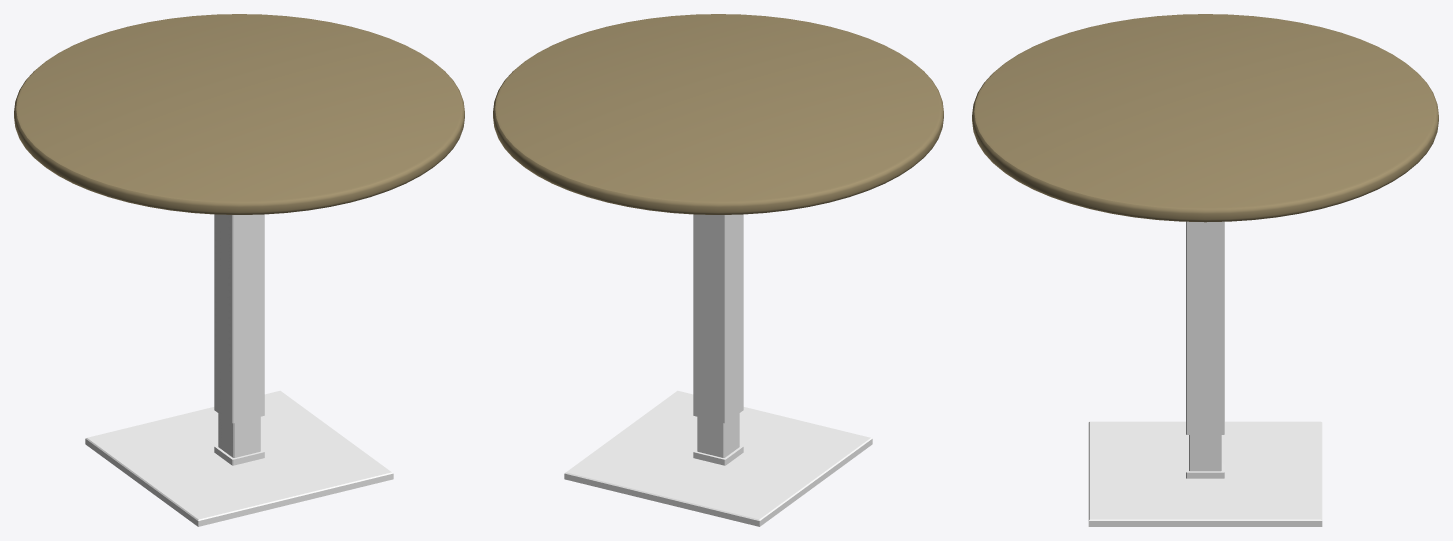
Rendered from Table_001.FBX.
3 renders of one model, left to right at view 1: azimuth 30°, elevation 25°; view 2: azimuth 150°, elevation 25°; view 3: azimuth 270°, elevation 25°, orthographic. The views are drawn at different scales.
Visible parts, largest first — view 1: Auxiliar_Table_001; view 2: Auxiliar_Table_001; view 3: Auxiliar_Table_001.
Boxes of the visible parts, left/top/right/bottom form: Auxiliar_Table_001: left=14, top=14, right=464, bottom=526; Auxiliar_Table_001: left=493, top=14, right=943, bottom=526; Auxiliar_Table_001: left=972, top=14, right=1438, bottom=526.
Size of the model in its own units: 60 by 51.98 by 60.
